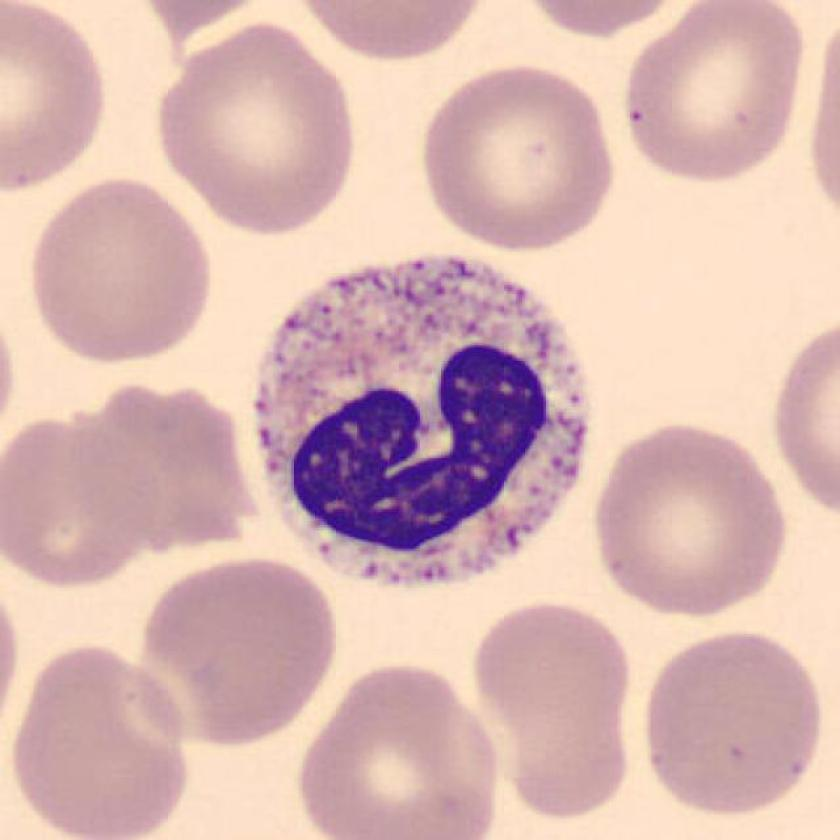neutrophil: (261, 258, 586, 585)
